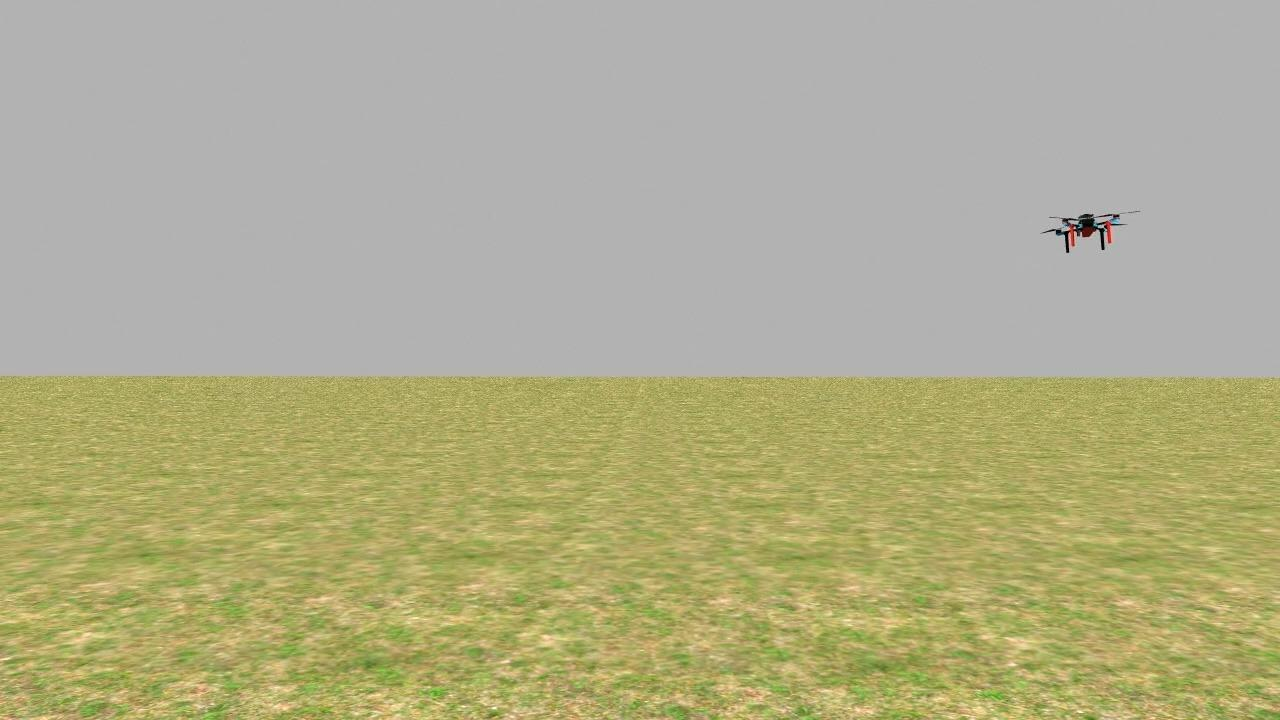UAV: (1042, 207, 1126, 258)
